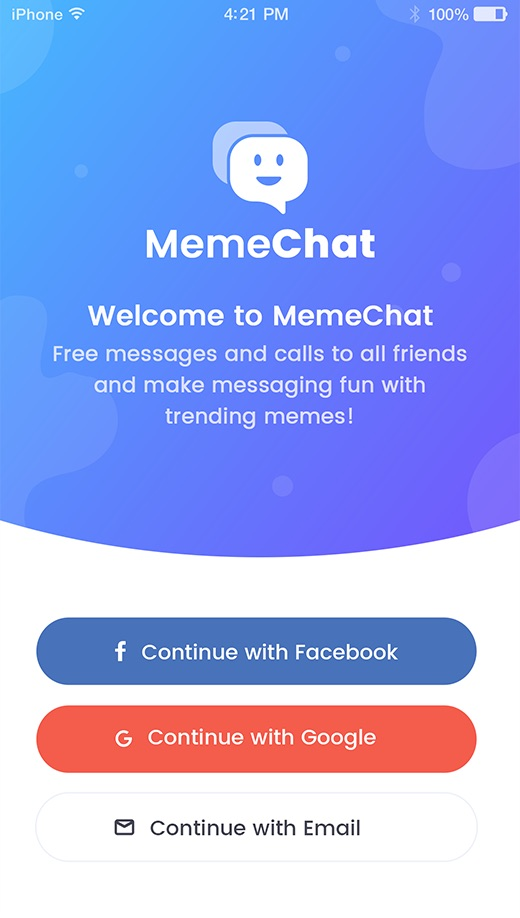Image: (211, 121, 310, 217)
Text: (53, 343, 468, 431), (88, 303, 434, 329), (146, 228, 377, 261)
TextButton: (35, 791, 479, 862), (36, 617, 478, 686), (37, 705, 478, 774)
UpperTaskBar: (1, 1, 520, 26)
